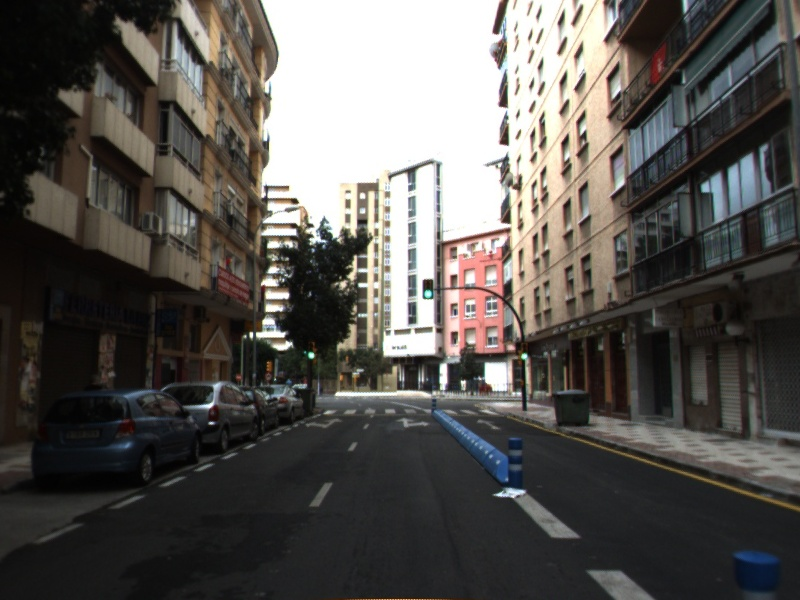STRAIGHT: (475, 417, 502, 431)
STRAIGHT_LEFT: (304, 416, 345, 430)
STRAIGHT_RIGHT: (394, 416, 432, 429)
